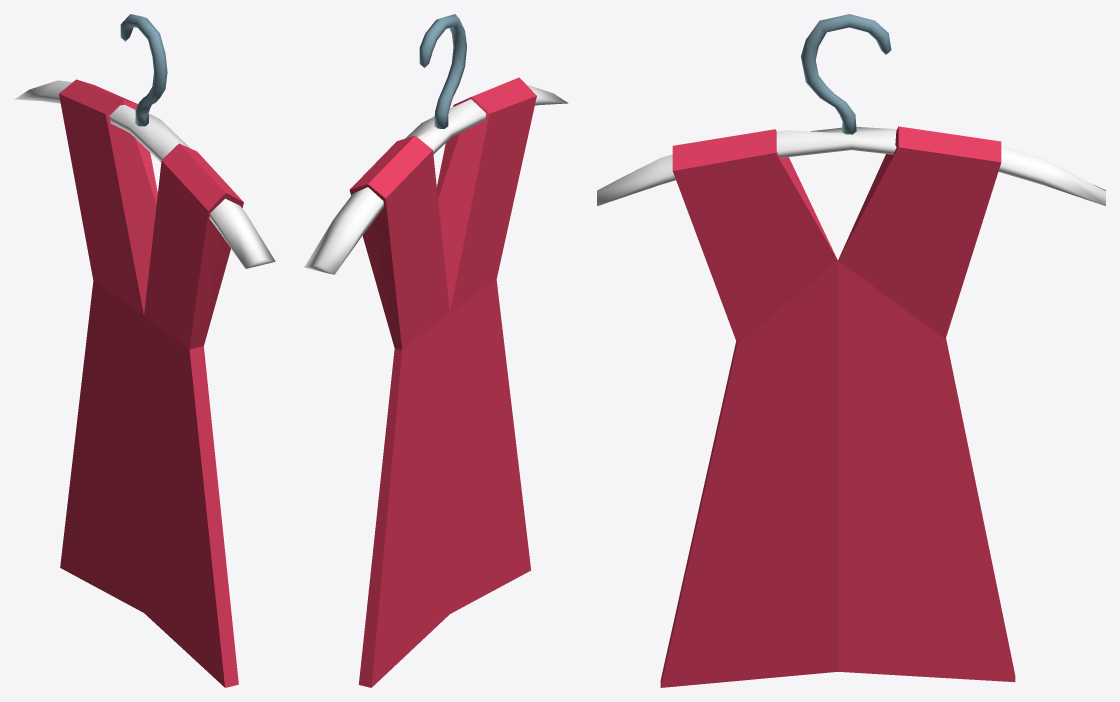
Rendered from shirt1.fbx.
3 renders of one model, left to right at view 1: azimuth 30°, elevation 25°; view 2: azimuth 150°, elevation 25°; view 3: azimuth 270°, elevation 25°, orthographic. The views are drawn at different scales.
Parts seen in each view (by area): view 1: Cube.008, Cube.001; view 2: Cube.008, Cube.001; view 3: Cube.008, Cube.001.
Boxes of the visible parts, bbox=[...] form: Cube.008: bbox=[59, 79, 243, 687]; Cube.001: bbox=[14, 14, 275, 268]; Cube.008: bbox=[349, 77, 536, 687]; Cube.001: bbox=[304, 14, 568, 274]; Cube.008: bbox=[660, 126, 1015, 687]; Cube.001: bbox=[597, 14, 1105, 206].
Bounding box in the file's own units: 16.06 × 262 × 181.
